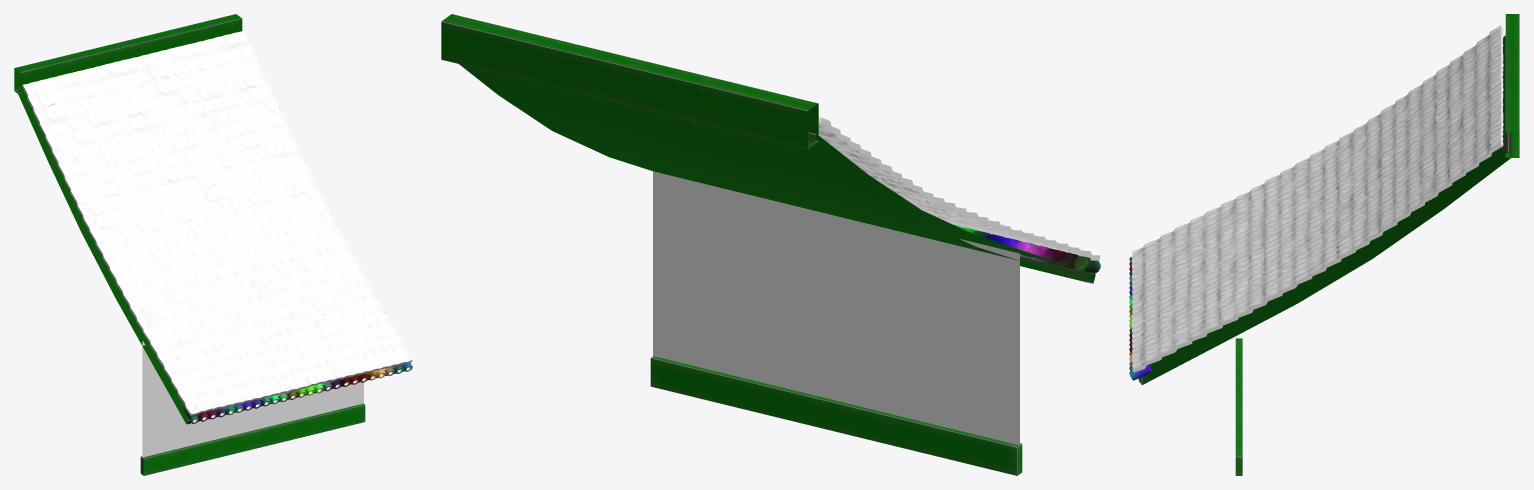
File: roof_400_01_middle.fbx
3 views of the same model, side by side, from view 1: azimuth 30°, elevation 25°; view 2: azimuth 150°, elevation 25°; view 3: azimuth 270°, elevation 25° (orthographic). The views are drawn at different scales.
Parts seen in each view (by area): view 1: roof_400_01_middle; view 2: roof_400_01_middle; view 3: roof_400_01_middle.
Boxes of the visible parts, x1,y1,x2,y2 form: roof_400_01_middle: (14, 14, 412, 475); roof_400_01_middle: (441, 14, 1100, 475); roof_400_01_middle: (1129, 14, 1519, 475).
Bounding box in the file's own units: 4 × 5.4 × 5.56.
